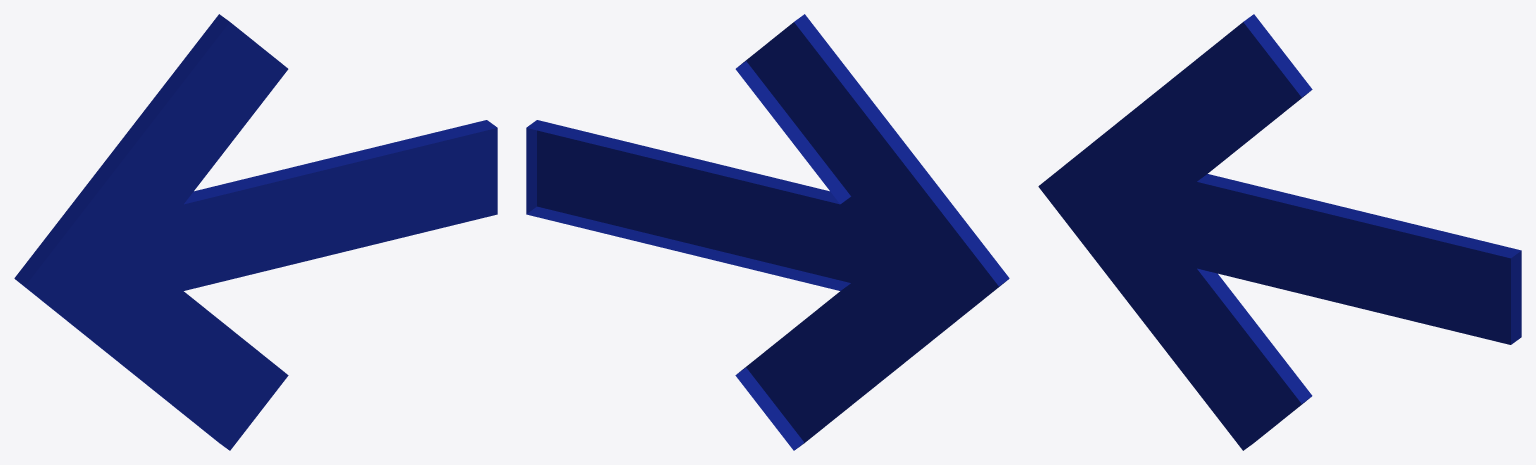
The model's file is MetroArrow.glb.
The picture shows the model from 3 angles, left to right: view 1: azimuth 30°, elevation 25°; view 2: azimuth 150°, elevation 25°; view 3: azimuth 330°, elevation 25°; orthographic projection.
Visible parts, largest first — view 1: MetroArrow; view 2: MetroArrow; view 3: MetroArrow.
Boxes of the visible parts, x1,y1,x2,y2 form: MetroArrow: (14,14,497,450); MetroArrow: (526,14,1009,450); MetroArrow: (1038,14,1521,450).
Bounding box in the file's own units: 1.26 × 1.09 × 0.05.
